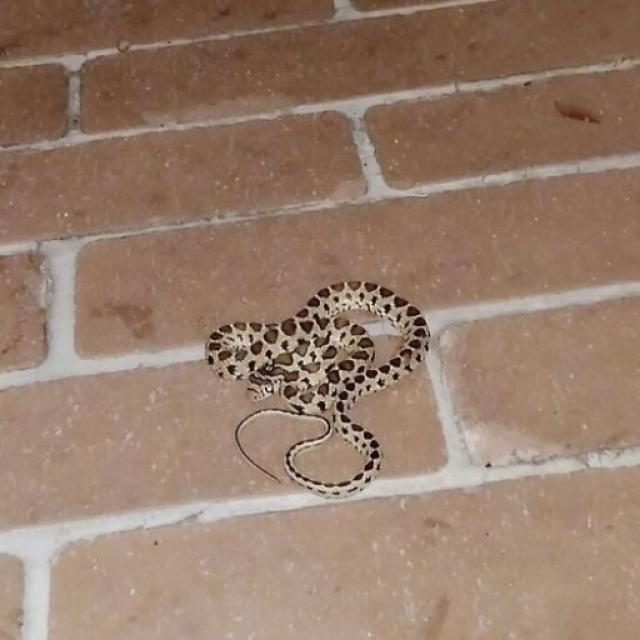snake: (198, 264, 448, 525)
